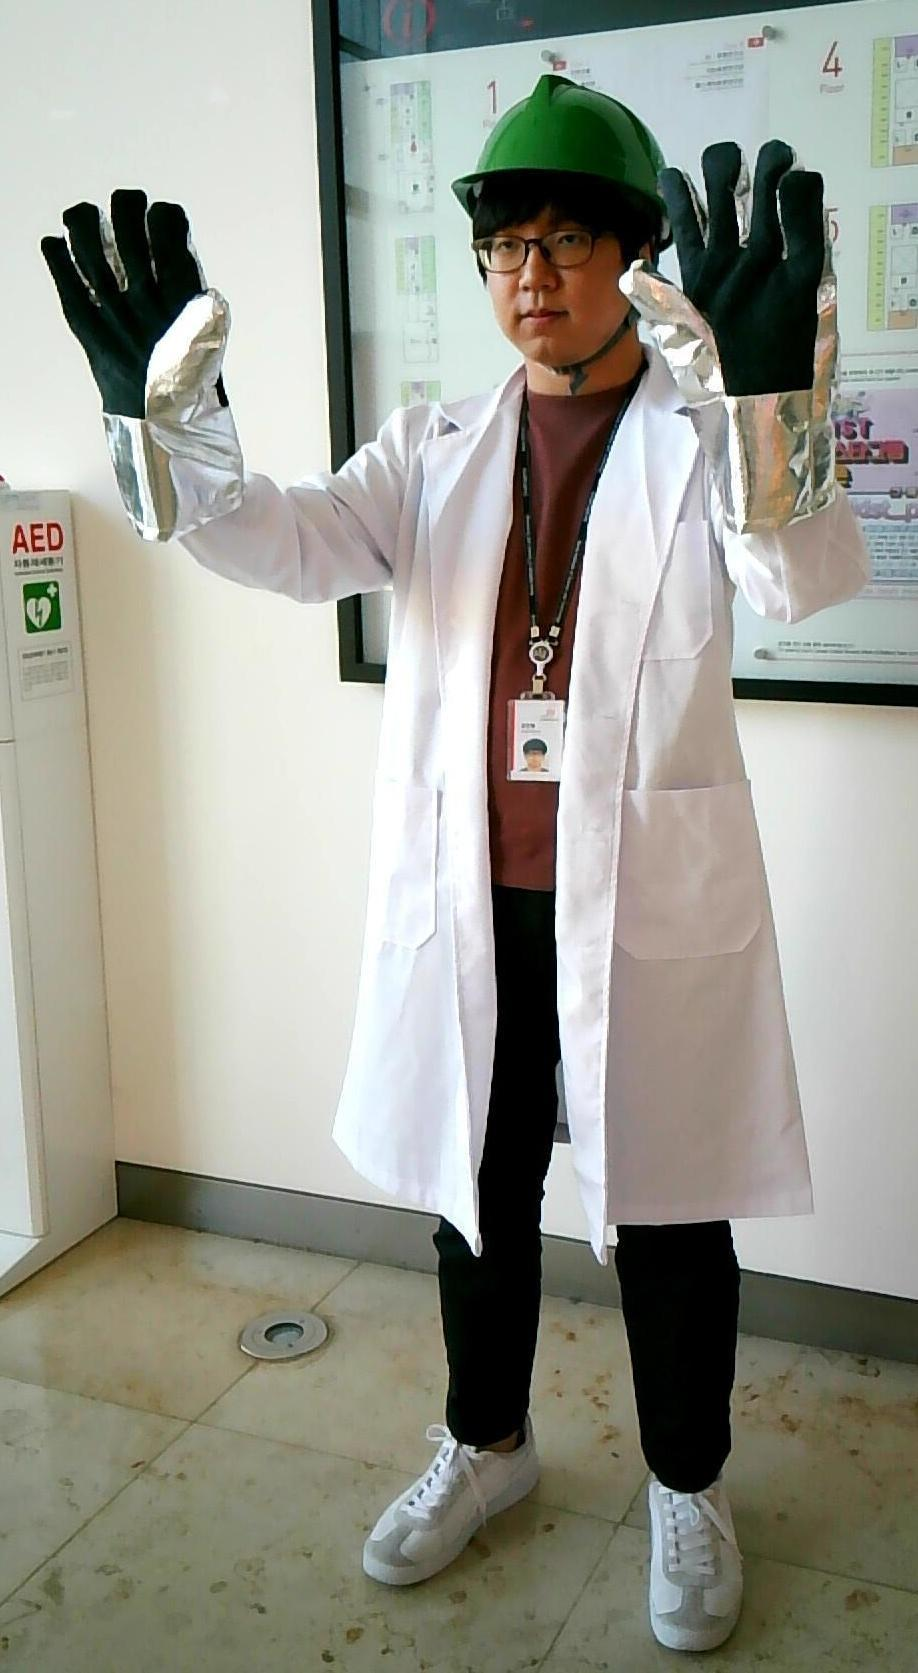lab_coat: (349, 421, 704, 1170)
